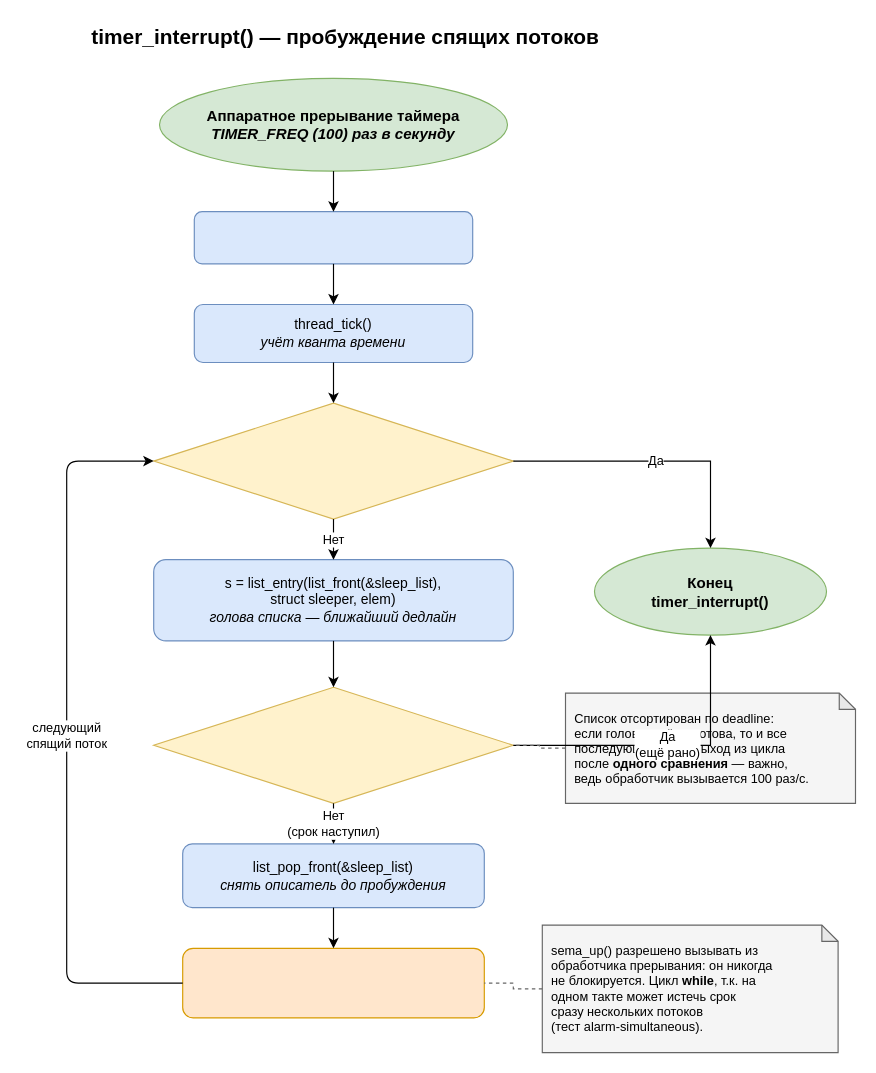
Image size: 876x1073. Some labels were removed from this diagram. Here are the shapes that lost their labels. From the top down, the centre of each, then its label:
point (333, 237): ticks++
point (333, 460): list_empty(&sleep_list)?
point (333, 744): s->deadline > ticks?
point (333, 982): sema_up(&s->sema) поток: BLOCKED → READY
